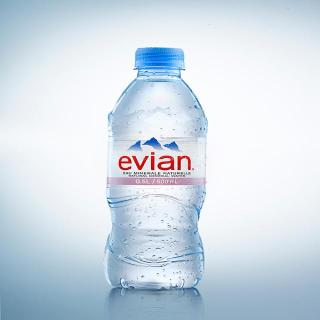Anorganik: (102, 38, 220, 294)
